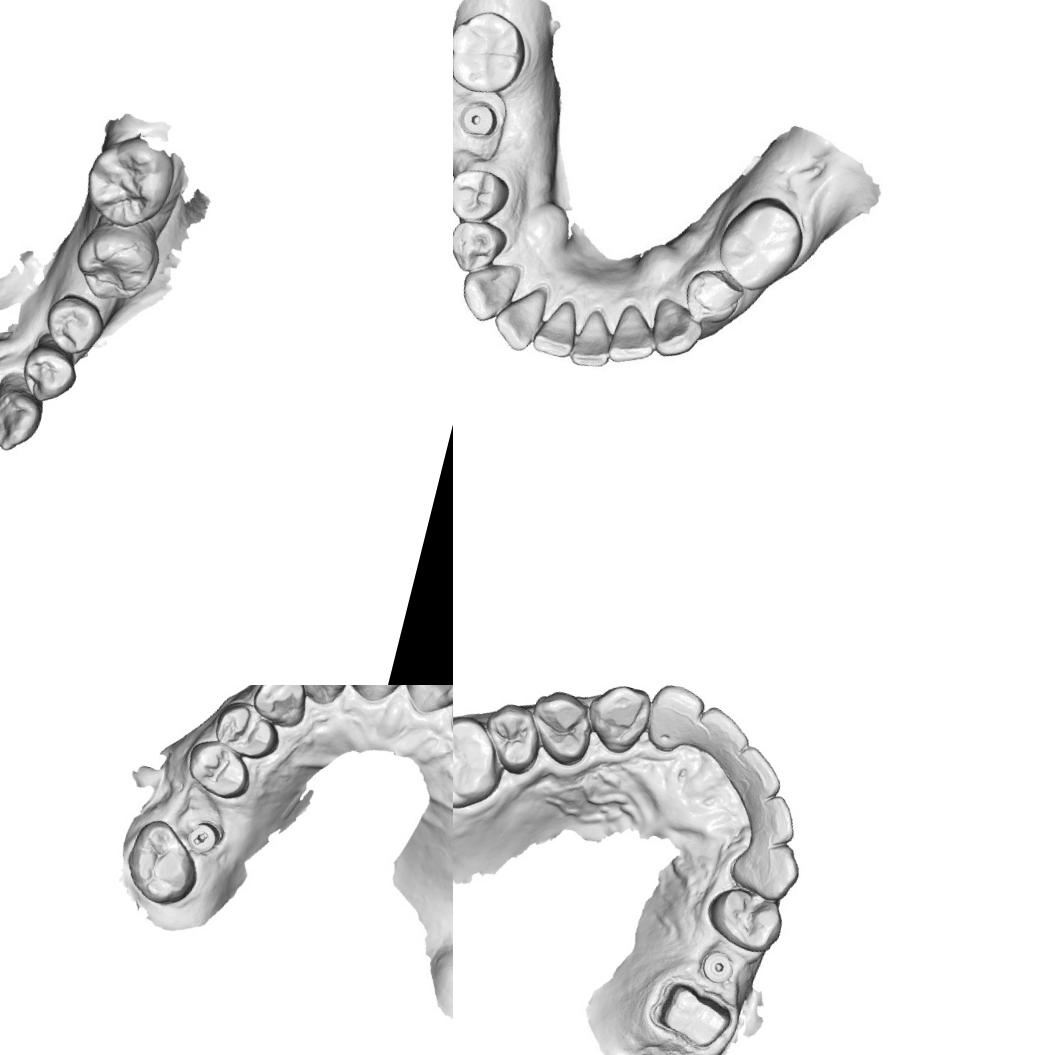canine: (721, 830, 808, 904), (577, 685, 655, 761), (642, 296, 706, 368), (453, 260, 518, 328), (0, 374, 51, 459), (247, 685, 313, 732)
crown: (645, 974, 739, 1055)
implant: (696, 942, 742, 990), (458, 98, 499, 144)
implant_minus: (182, 815, 227, 858)
incisor: (713, 737, 792, 813), (640, 685, 707, 757), (734, 784, 806, 851), (691, 702, 758, 769), (604, 302, 662, 372), (563, 306, 620, 375), (528, 298, 584, 362), (488, 293, 542, 356), (397, 685, 453, 722), (338, 685, 412, 710), (291, 685, 354, 710)
molar: (74, 130, 188, 238), (706, 186, 814, 300), (64, 208, 168, 312), (117, 814, 209, 912), (453, 1, 535, 102), (453, 703, 515, 819)
premolar: (697, 881, 790, 960), (517, 685, 602, 771), (476, 695, 550, 780), (208, 694, 288, 764), (36, 288, 111, 362), (180, 733, 258, 804), (12, 339, 82, 410), (676, 263, 748, 331), (453, 160, 507, 226), (453, 215, 503, 276)
